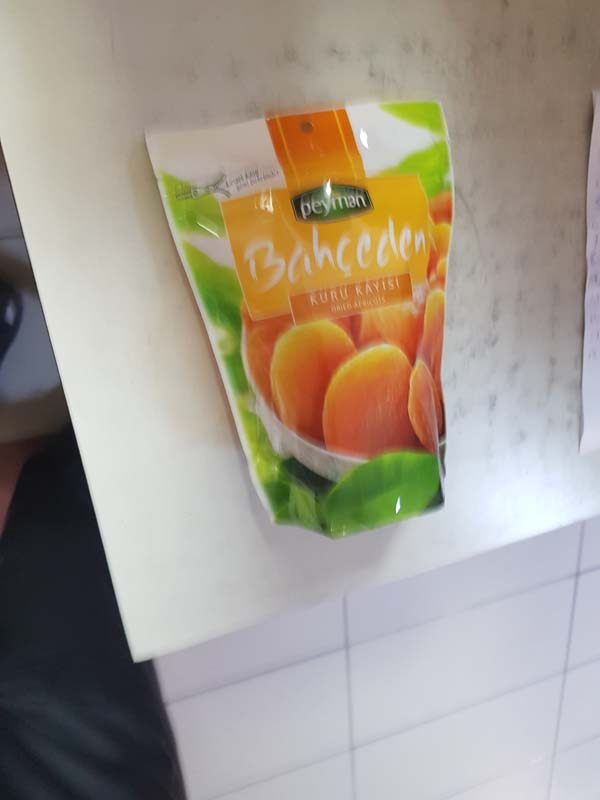bahcedenkurukayisi: (128, 89, 456, 532)
